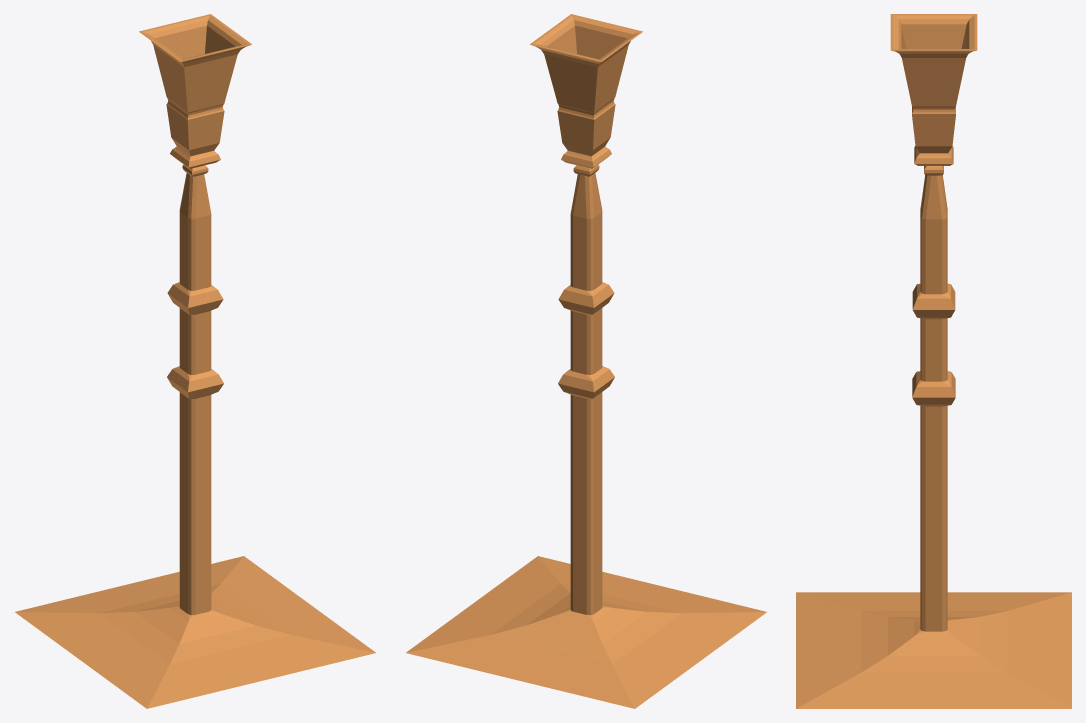
The model's file is Suporte_de_Vela_grande.fbx.
The picture shows the model from 3 angles, left to right: view 1: azimuth 30°, elevation 25°; view 2: azimuth 150°, elevation 25°; view 3: azimuth 270°, elevation 25°; orthographic projection. The views are drawn at different scales.
Visible parts, largest first — view 1: Cube.057; view 2: Cube.057; view 3: Cube.057.
Boxes of the visible parts, <box> form: Cube.057: <box>15,14,375,708</box>; Cube.057: <box>406,14,766,708</box>; Cube.057: <box>796,14,1071,708</box>.
Bounding box in the file's own units: 200 × 495 × 200.
